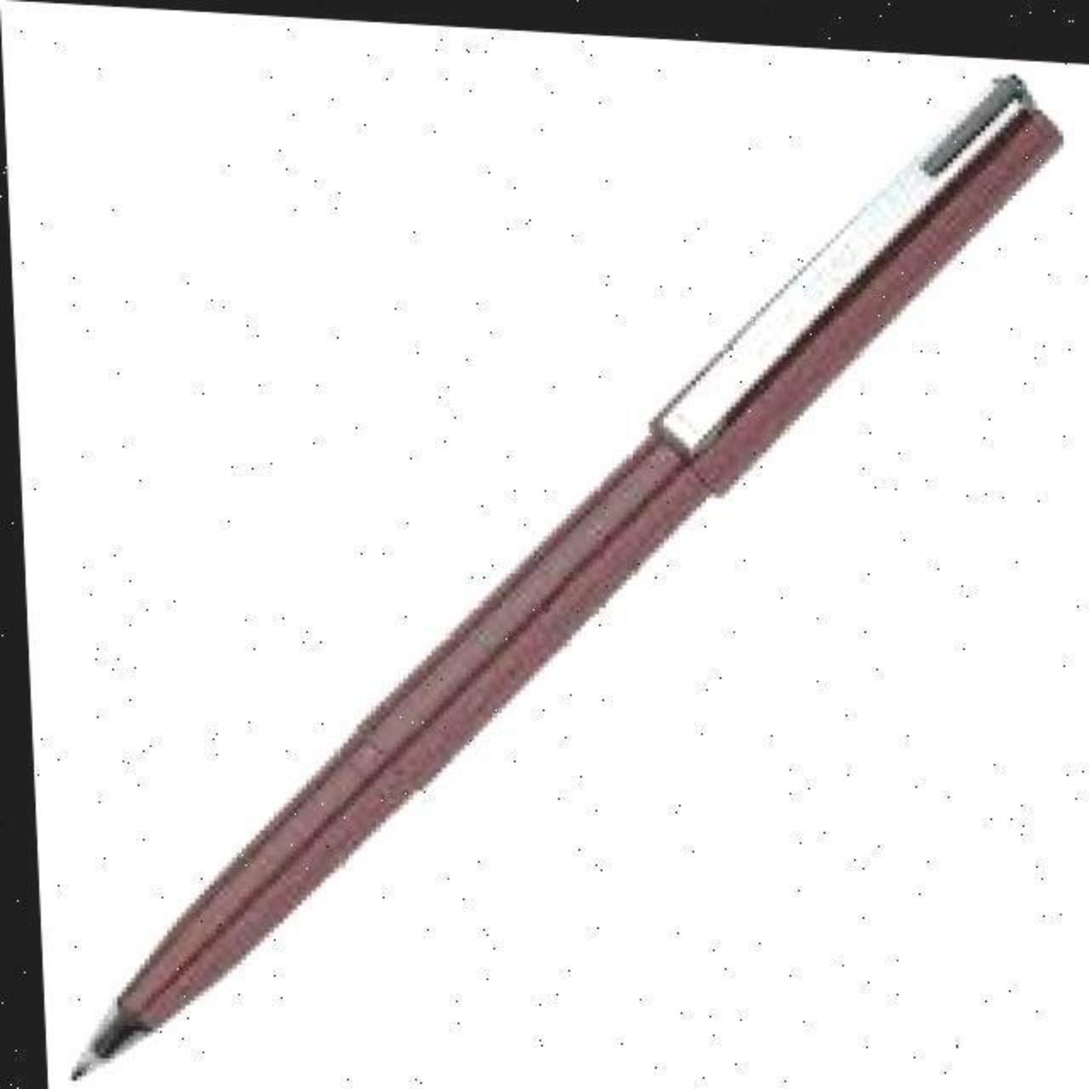pen: (15, 5, 1089, 1089)
